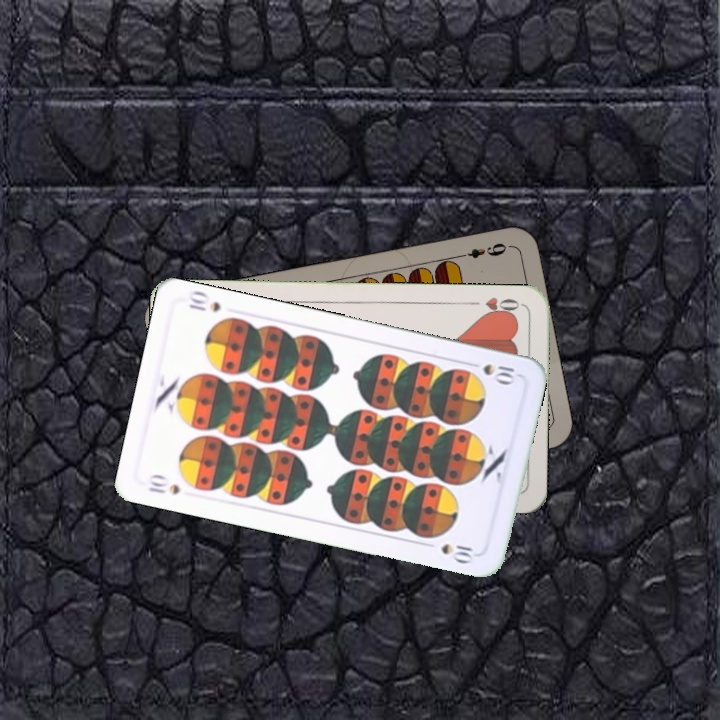E9: (453, 238, 511, 261)
HO: (465, 293, 524, 319)
S10: (479, 360, 518, 387), (144, 470, 183, 497)
